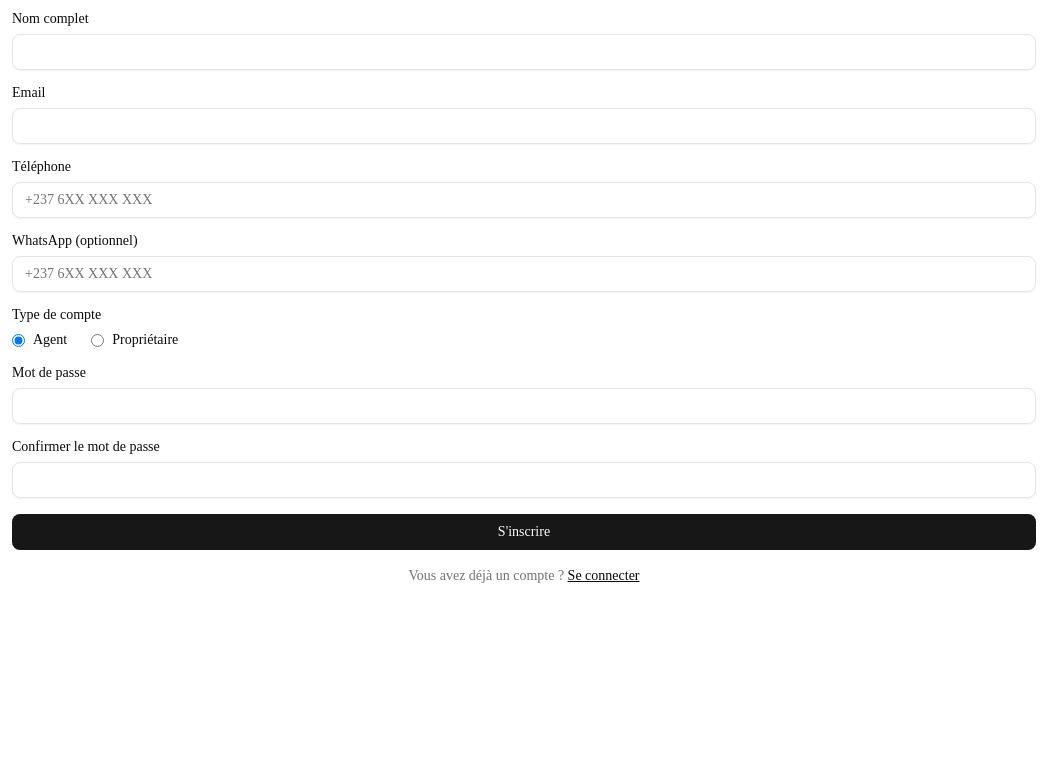
it: RegisterForm › shows a mismatch error when passwords differ
In the field labelled "Nom complet": (524, 52) [12, 34, 1036, 70], type "Jean Dupont"
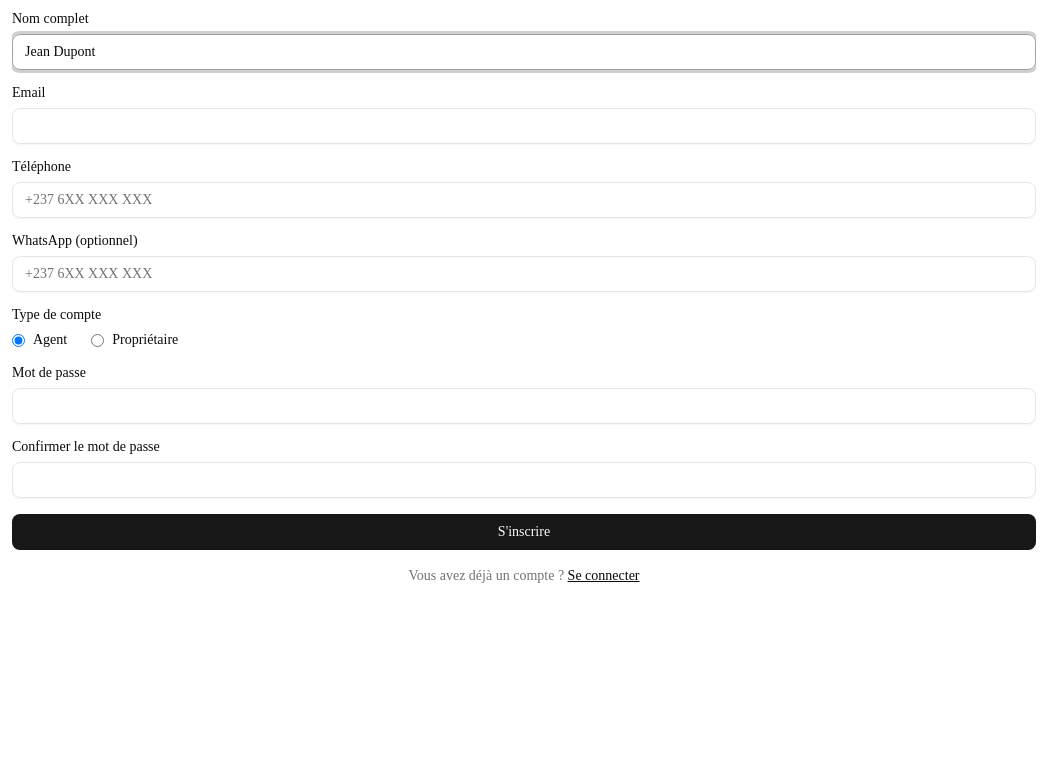
In the field labelled "Email": (524, 126) [12, 108, 1036, 144], type "jean@example.com"
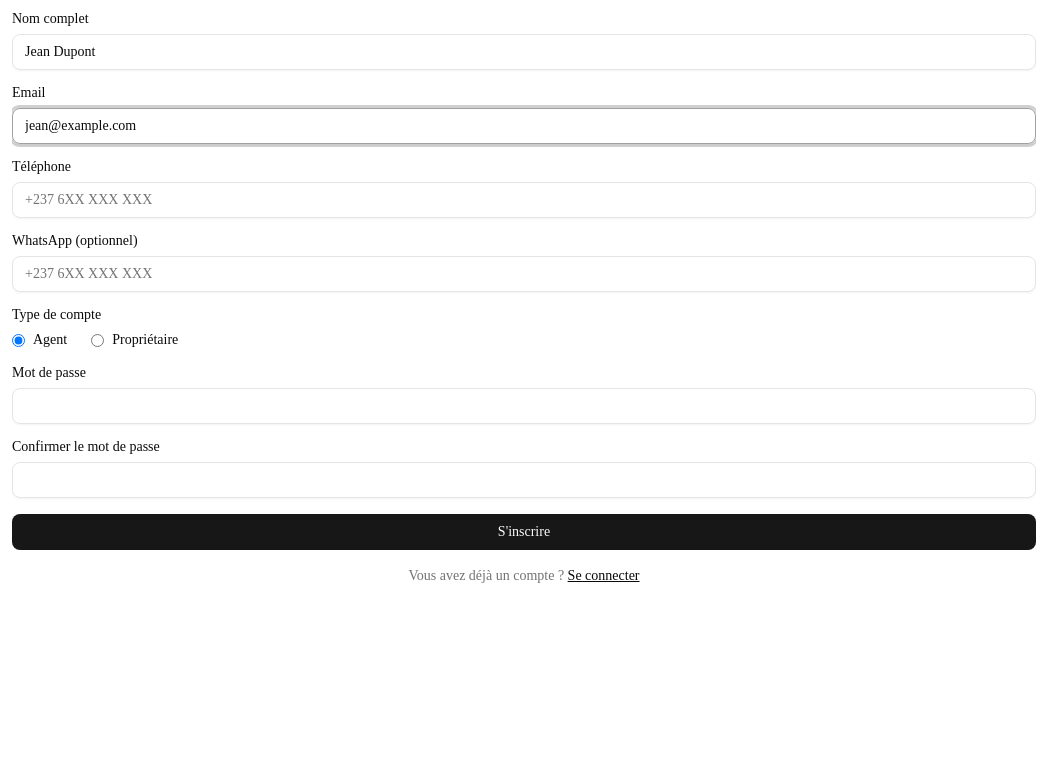
In the field labelled "Téléphone": (524, 200) [12, 182, 1036, 218], type "+237 690 123 456"
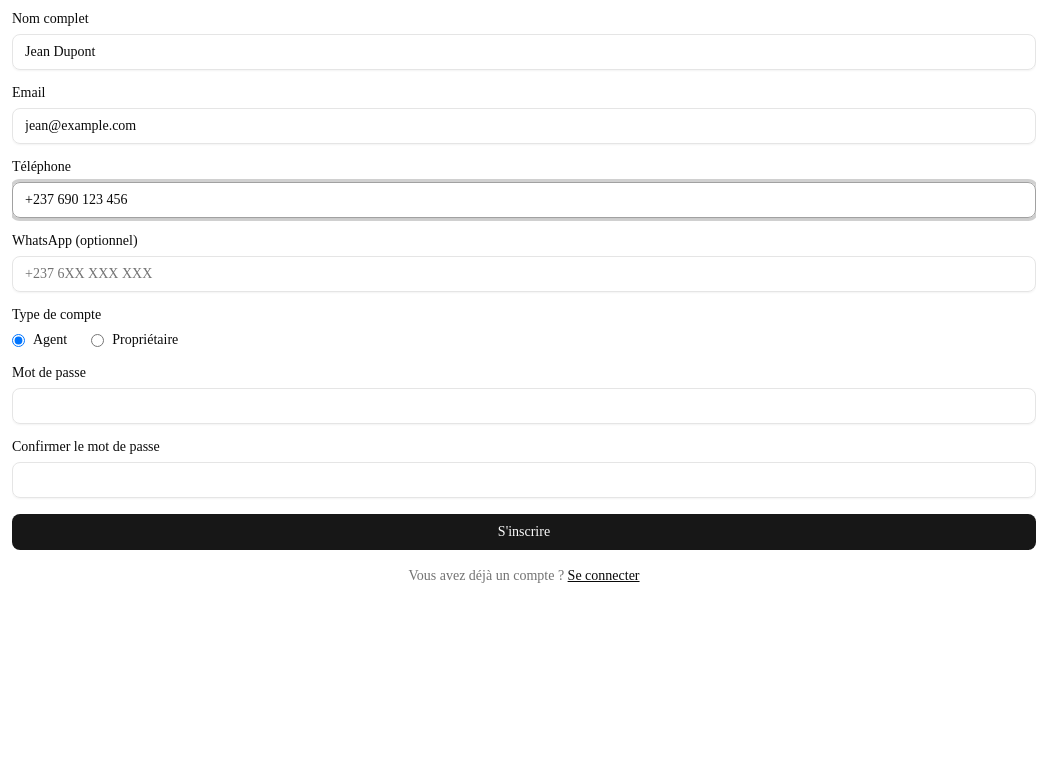
In the password field labelled "Mot de passe": (524, 406) [12, 388, 1036, 424], type "password1"
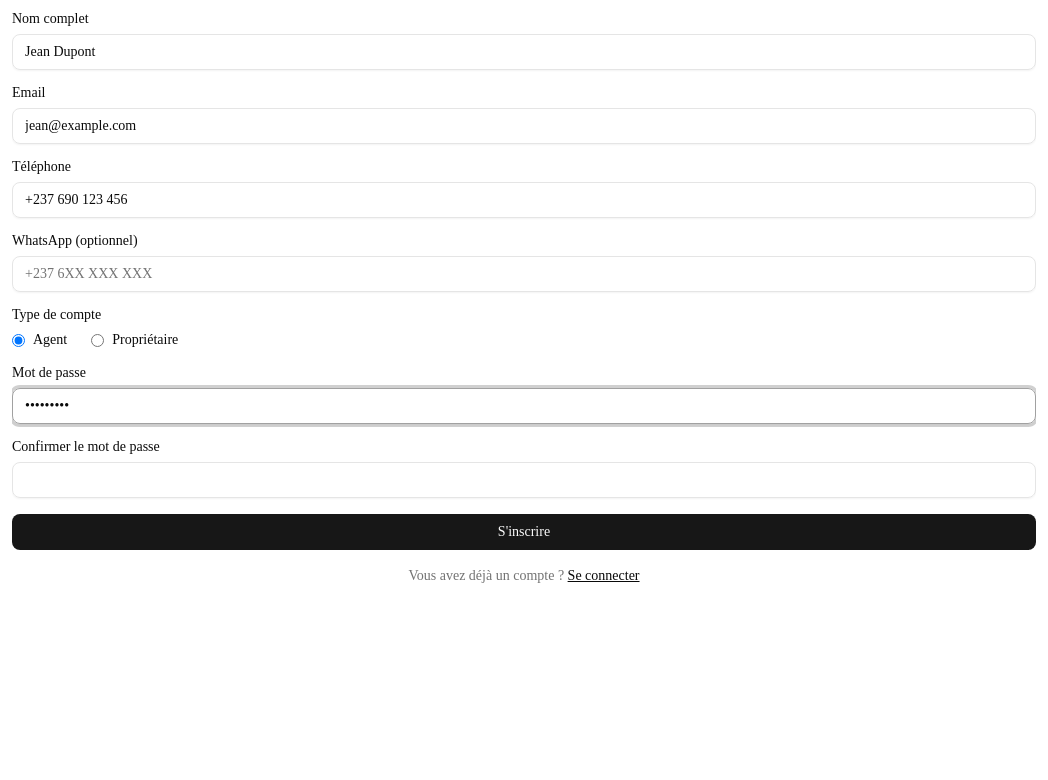
In the password field labelled "Confirmer le mot de passe": (524, 480) [12, 462, 1036, 498], type "password2"
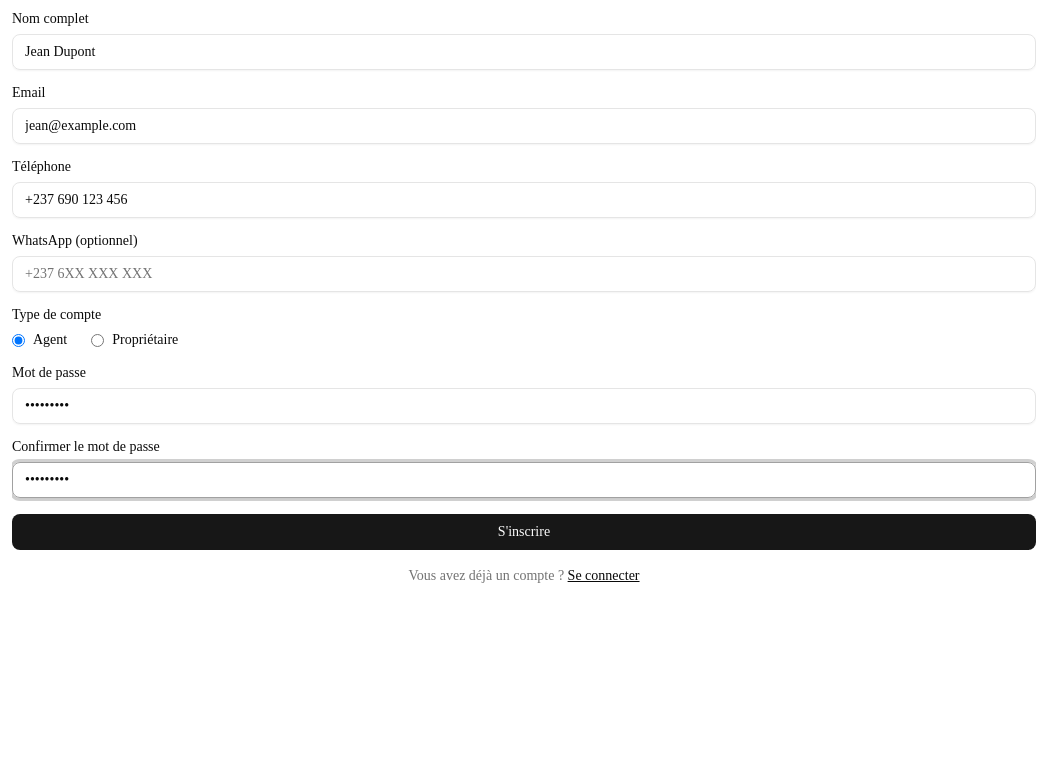
Click the button "S'inscrire": (524, 532) [12, 514, 1036, 550]
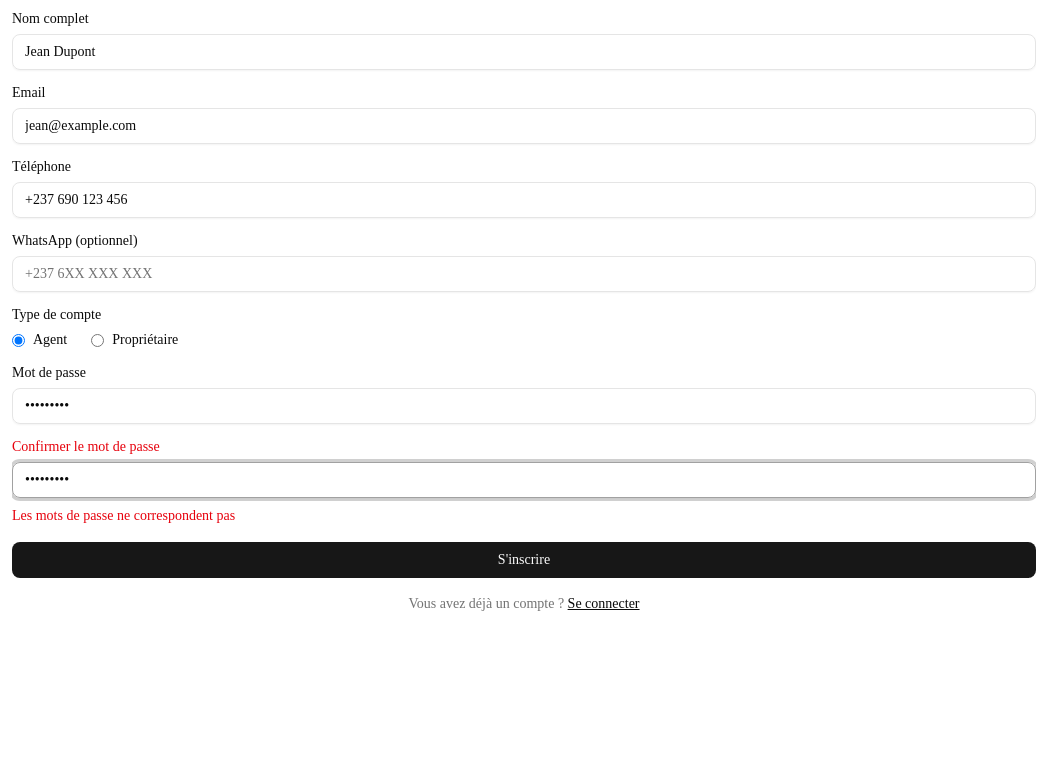
Check: the text "Les mots de passe ne correspondent pas" is shown, box [12, 508, 235, 523]
